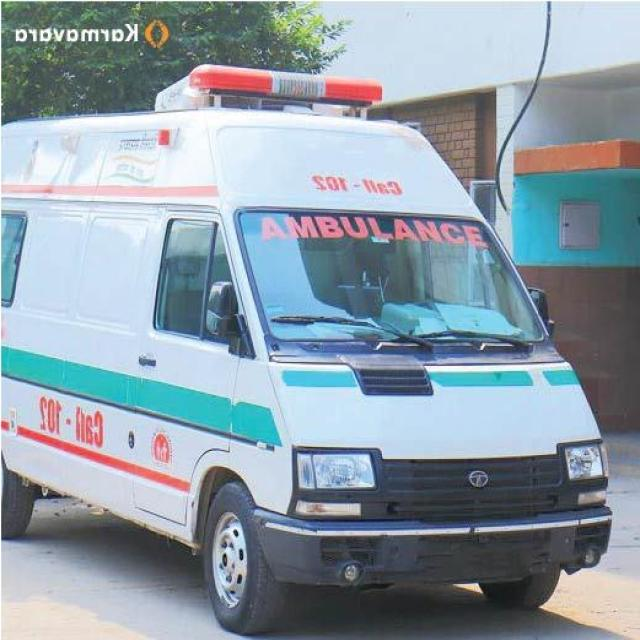emergency: (0, 66, 609, 633)
